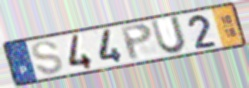2: (185, 12, 221, 53)
4: (97, 27, 127, 66), (67, 32, 95, 71)
P: (118, 22, 154, 63)
S: (31, 40, 65, 76)
U: (148, 14, 189, 56)
